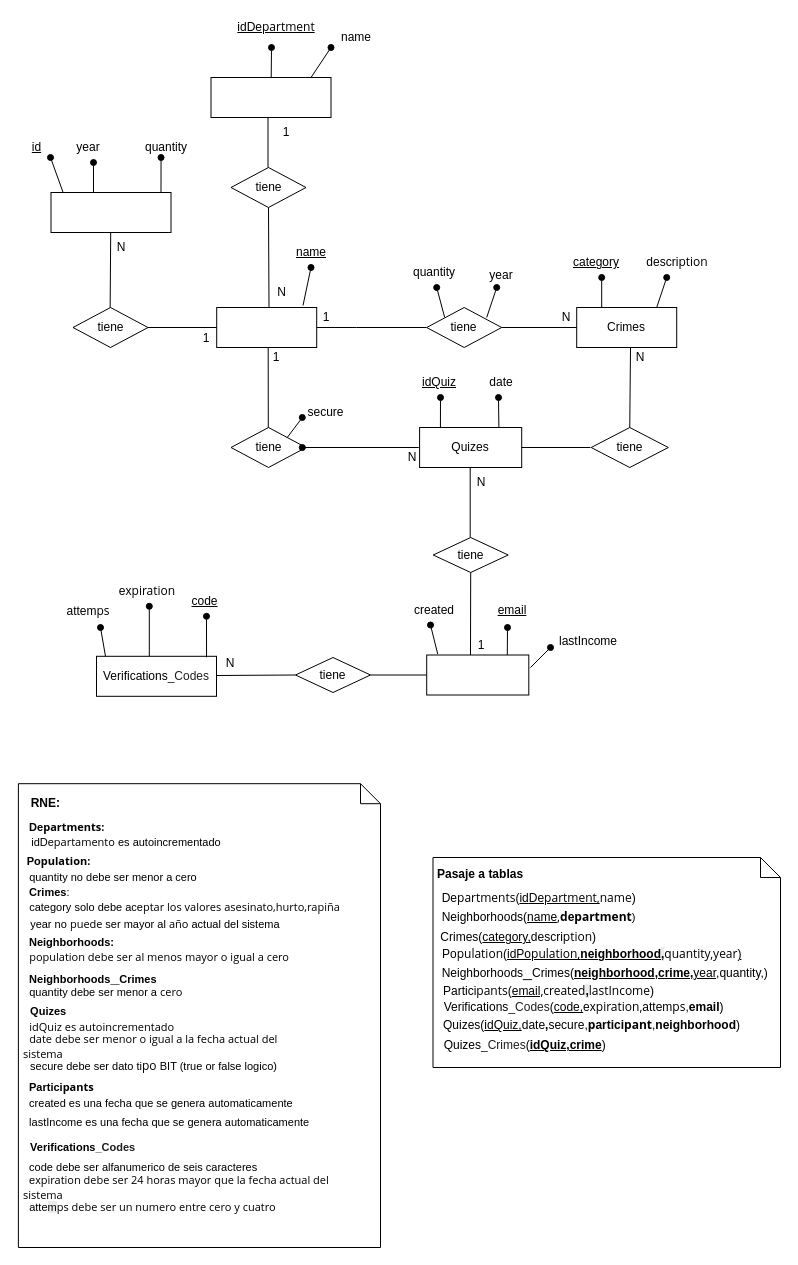
Some shapes in this 798 by 1265 pixel diagram are drawn without their labels. The centre of each missing label's shape, as x and y in pixels:
"De partments" goes at (x=270, y=97).
"Neighborhoods" goes at (x=266, y=327).
"P articipants" goes at (x=477, y=674).
"Po pulation" goes at (x=110, y=212).
